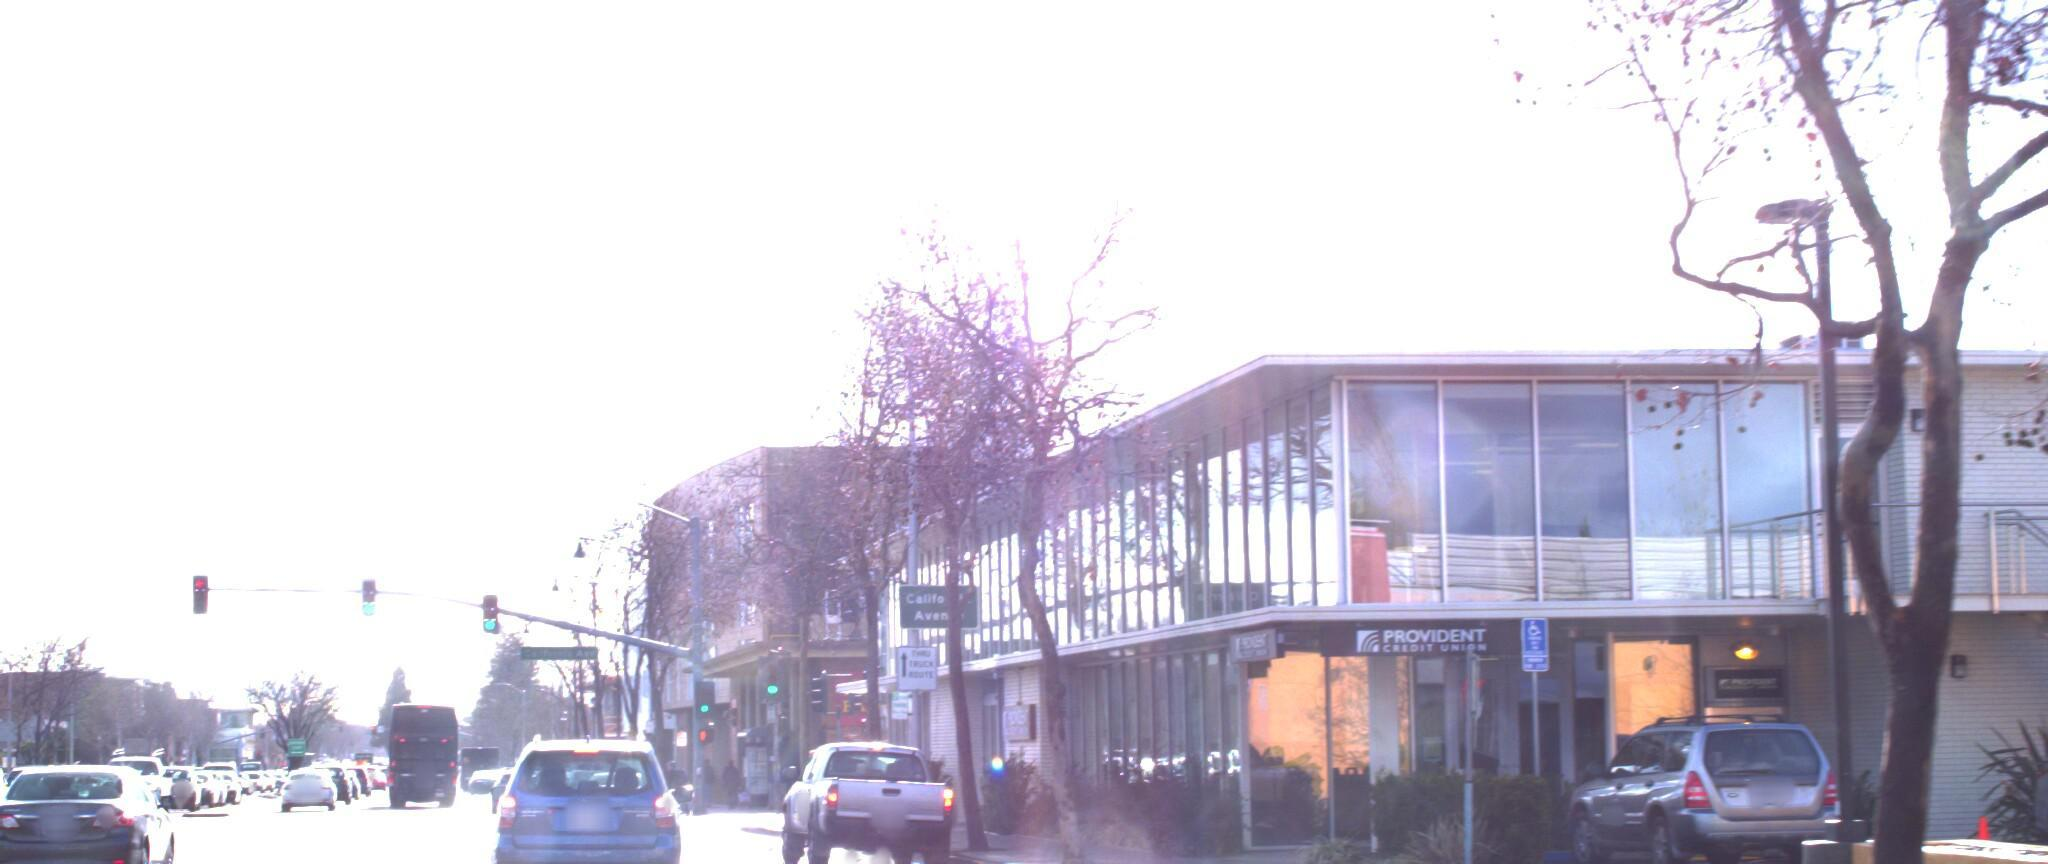car: (1529, 687, 1851, 864), (492, 731, 699, 864), (776, 715, 957, 863)
